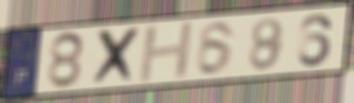6: (194, 21, 238, 76), (297, 12, 334, 67)
8: (45, 30, 88, 91), (246, 16, 286, 72)
H: (136, 19, 197, 85)
X: (88, 24, 144, 88)
